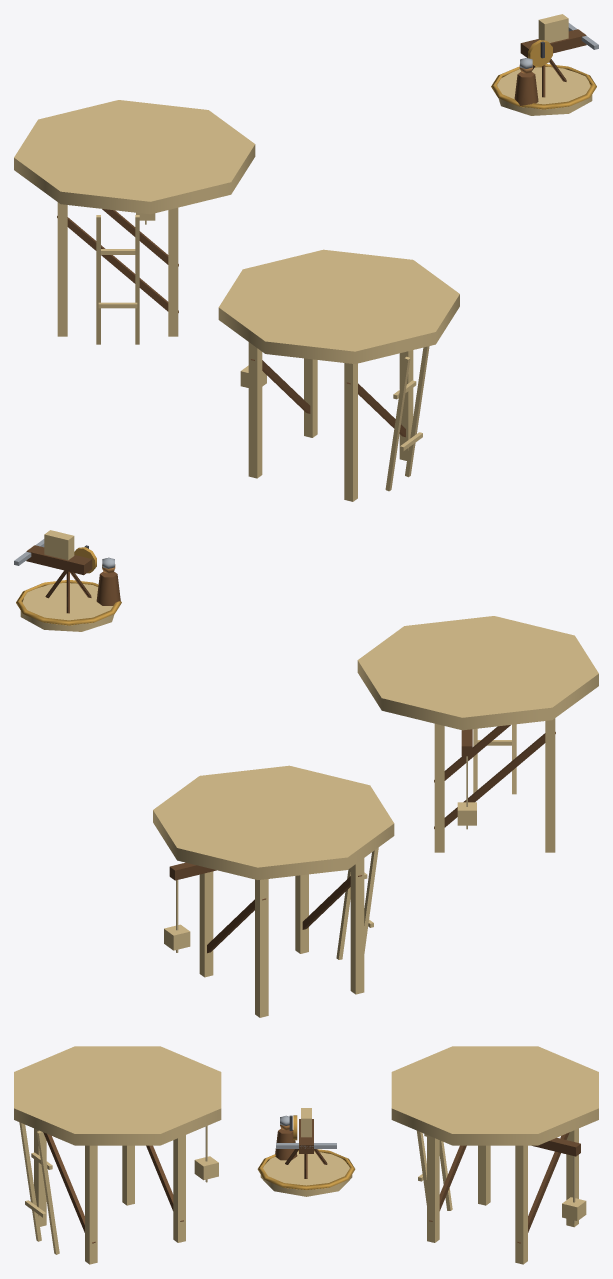
The model's file is base_builder_weapon_1.glb.
3 renders of one model, top to bottom at view 1: azimuth 30°, elevation 25°; view 2: azimuth 150°, elevation 25°; view 3: azimuth 270°, elevation 25°, orthographic. The views are drawn at different scales.
Visible parts, largest first — view 1: tower_slot_2_plate, tower_slot_1_plate, weapon_mount, tower_slot_2_leg_0, tower_slot_2_leg_1, tower_slot_1_leg_1, tower_slot_1_leg_3, tower_slot_2_leg_2, tower_slot_2_leg_3, tower_slot_1_brace_r, weapon_mount_ring, tower_slot_2_ladder_o (+6 smaller); view 2: tower_slot_1_plate, tower_slot_2_plate, weapon_mount, tower_slot_1_leg_1, tower_slot_1_leg_0, tower_slot_1_leg_2, tower_slot_2_leg_0, tower_slot_2_leg_2, tower_slot_1_leg_3, tower_slot_2_brace_l, repeater_stock, weapon_mount_ring (+2 smaller); view 3: tower_slot_1_plate, tower_slot_2_plate, weapon_mount, tower_slot_1_leg_2, tower_slot_2_leg_3, tower_slot_1_leg_3, tower_slot_2_leg_2, weapon_mount_ring, tower_slot_1_leg_1, tower_slot_2_leg_0, tower_slot_2_ladder_i, tower_slot_2_leg_1 (+14 smaller).
Boxes of the visible parts, left/top/right/bottom form: tower_slot_2_plate: left=218, top=249, right=459, bottom=363; tower_slot_1_plate: left=14, top=100, right=255, bottom=214; weapon_mount: left=497, top=67, right=592, bottom=115; tower_slot_2_leg_0: left=248, top=342, right=262, bottom=478; tower_slot_2_leg_1: left=344, top=363, right=357, bottom=501; tower_slot_1_leg_1: left=57, top=202, right=67, bottom=336; tower_slot_1_leg_3: left=168, top=207, right=178, bottom=336; tower_slot_2_leg_2: left=304, top=358, right=317, bottom=437; tower_slot_2_leg_3: left=399, top=350, right=413, bottom=460; tower_slot_1_brace_r: left=57, top=216, right=178, bottom=312; weapon_mount_ring: left=491, top=64, right=596, bottom=109; tower_slot_2_ladder_o: left=385, top=356, right=410, bottom=491; tower_slot_1_plate: left=153, top=765, right=394, bottom=879; tower_slot_2_plate: left=357, top=616, right=598, bottom=730; weapon_mount: left=20, top=583, right=114, bottom=631; tower_slot_1_leg_1: left=350, top=858, right=364, bottom=994; tower_slot_1_leg_0: left=255, top=879, right=268, bottom=1017; tower_slot_1_leg_2: left=199, top=871, right=213, bottom=977; tower_slot_2_leg_0: left=545, top=718, right=555, bottom=852; tower_slot_2_leg_2: left=434, top=723, right=444, bottom=852; tower_slot_1_leg_3: left=295, top=874, right=308, bottom=953; tower_slot_2_brace_l: left=434, top=732, right=555, bottom=828; repeater_stock: left=26, top=545, right=92, bottom=575; weapon_mount_ring: left=16, top=580, right=121, bottom=625; tower_slot_1_plate: left=391, top=1046, right=598, bottom=1145; tower_slot_2_plate: left=14, top=1046, right=221, bottom=1145; weapon_mount: left=260, top=1151, right=352, bottom=1196; tower_slot_1_leg_2: left=515, top=1145, right=527, bottom=1264; tower_slot_2_leg_3: left=85, top=1145, right=97, bottom=1264; tower_slot_1_leg_3: left=427, top=1135, right=439, bottom=1242; tower_slot_2_leg_2: left=173, top=1135, right=185, bottom=1242; weapon_mount_ring: left=257, top=1149, right=355, bottom=1190; tower_slot_1_leg_1: left=478, top=1145, right=490, bottom=1205; tower_slot_2_leg_0: left=122, top=1145, right=134, bottom=1205; tower_slot_2_ladder_i: left=36, top=1130, right=59, bottom=1254; tower_slot_2_leg_1: left=34, top=1128, right=46, bottom=1226.
Size of the model in its own units: 0.9403 by 0.578 by 1.15.
